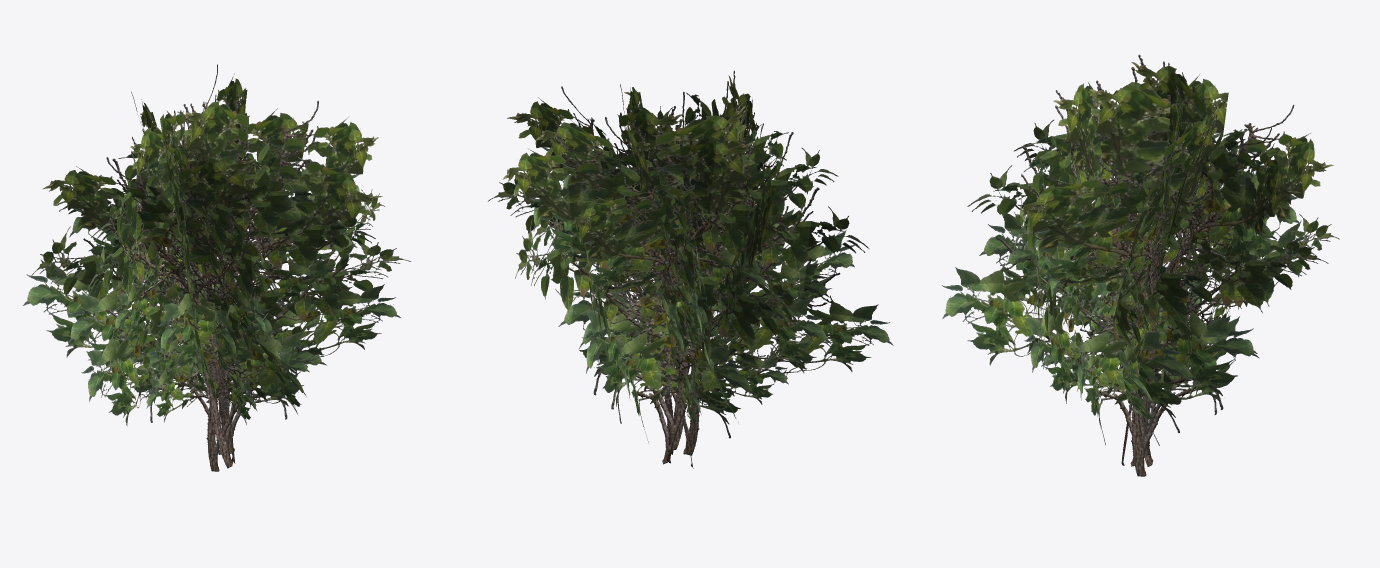
Rendered from Bush.fbx.
3 views of the same model, side by side, from view 1: azimuth 30°, elevation 25°; view 2: azimuth 150°, elevation 25°; view 3: azimuth 270°, elevation 25° (orthographic). The views are drawn at different scales.
Visible parts, largest first — view 1: Bush_LOD0; view 2: Bush_LOD0; view 3: Bush_LOD0.
Boxes of the visible parts, x1=… form: Bush_LOD0: x1=23, y1=64, x2=411, y2=471; Bush_LOD0: x1=488, y1=70, x2=893, y2=468; Bush_LOD0: x1=942, y1=54, x2=1339, y2=476.
Bounding box in the file's own units: 1.78 × 1.8 × 1.74.
1 material, 1 textured.
